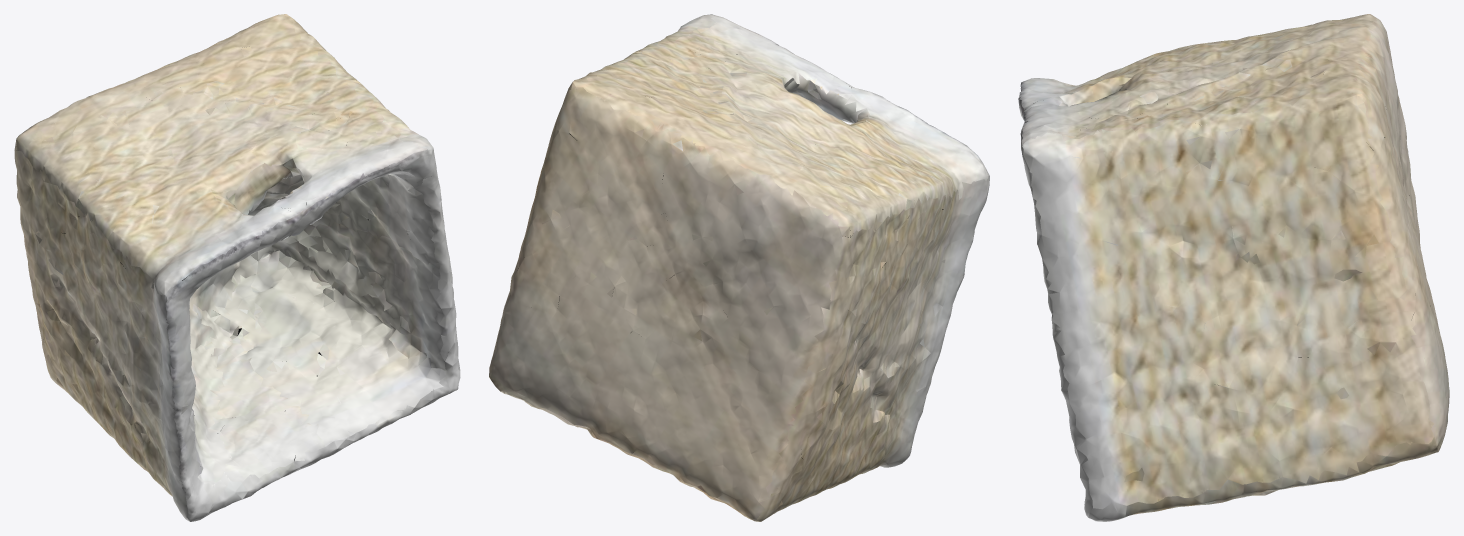
3 renders of one model, left to right at view 1: azimuth 30°, elevation 25°; view 2: azimuth 150°, elevation 25°; view 3: azimuth 270°, elevation 25°, orthographic. The views are drawn at different scales.
Parts seen in each view (by area): view 1: world; view 2: world; view 3: world.
Part boxes in pixels (left/top/right/bottom): world: left=14, top=14, right=460, bottom=521; world: left=489, top=14, right=989, bottom=521; world: left=1018, top=14, right=1449, bottom=521.
Bounding box in the file's own units: 0.7546 × 0.8285 × 0.6825.
Materials: 1 (1 with a texture image).
